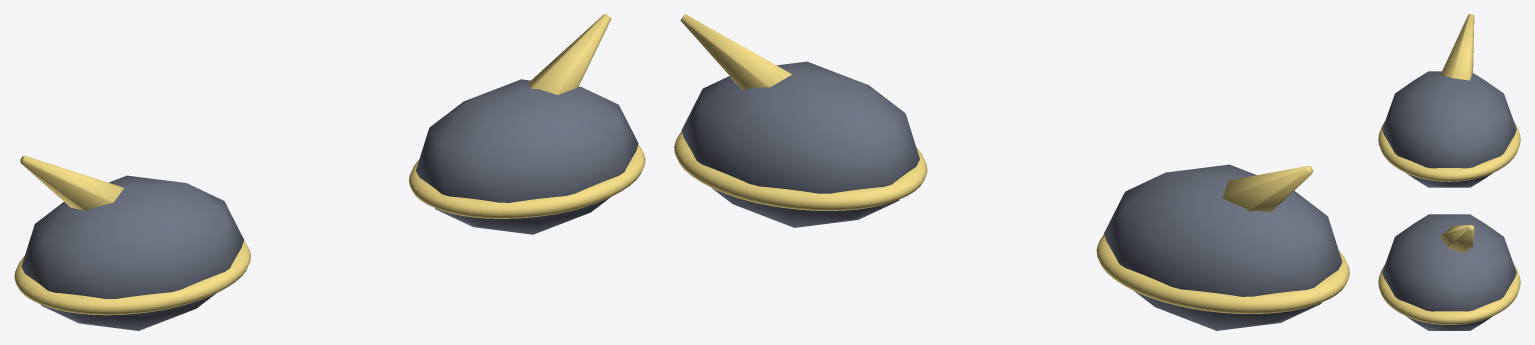
The model's file is dragon_pauldrons.glb.
3 renders of one model, left to right at view 1: azimuth 30°, elevation 25°; view 2: azimuth 150°, elevation 25°; view 3: azimuth 270°, elevation 25°, orthographic. The views are drawn at different scales.
Parts seen in each view (by area): view 1: Icosphere.001, Icosphere, Torus, Torus.001, PauldronHorn_-1, PauldronHorn_1; view 2: Icosphere.001, Icosphere, Torus.001, Torus, PauldronHorn_1, PauldronHorn_-1; view 3: Icosphere, Icosphere.001, Torus, Torus.001, PauldronHorn_-1, PauldronHorn_1.
Part boxes in pixels (left/top/right/bottom): Icosphere.001: left=416, top=79, right=638, bottom=234; Icosphere: left=21, top=175, right=243, bottom=330; Torus: left=14, top=241, right=250, bottom=315; Torus.001: left=409, top=144, right=645, bottom=218; PauldronHorn_-1: left=20, top=155, right=123, bottom=210; PauldronHorn_1: left=528, top=14, right=611, bottom=94; Icosphere.001: left=681, top=61, right=919, bottom=227; Icosphere: left=1104, top=164, right=1342, bottom=330; Torus.001: left=674, top=131, right=927, bottom=210; Torus: left=1096, top=234, right=1349, bottom=313; PauldronHorn_1: left=680, top=14, right=791, bottom=90; PauldronHorn_-1: left=1222, top=166, right=1313, bottom=212; Icosphere: left=1382, top=71, right=1516, bottom=187; Icosphere.001: left=1382, top=214, right=1516, bottom=330; Torus: left=1378, top=121, right=1520, bottom=181; Torus.001: left=1378, top=265, right=1520, bottom=324; PauldronHorn_-1: left=1440, top=14, right=1474, bottom=80; PauldronHorn_1: left=1440, top=225, right=1474, bottom=253.
Bounding box in the file's own units: 0.9604 × 0.2657 × 0.2605.
